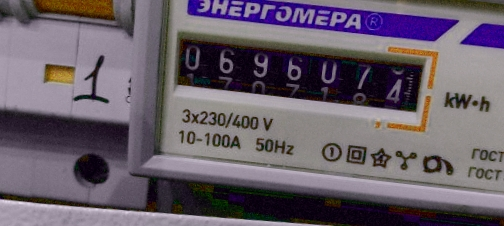0: (181, 41, 203, 72), (316, 56, 339, 85)
4: (382, 76, 404, 105)
6: (284, 52, 305, 82), (215, 46, 236, 75)
7: (351, 60, 373, 92)
9: (249, 50, 270, 80)
screen: (156, 15, 443, 134)
